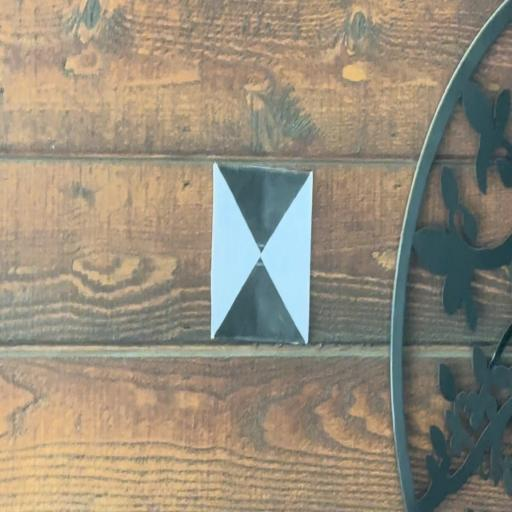target: (212, 162, 310, 342)
